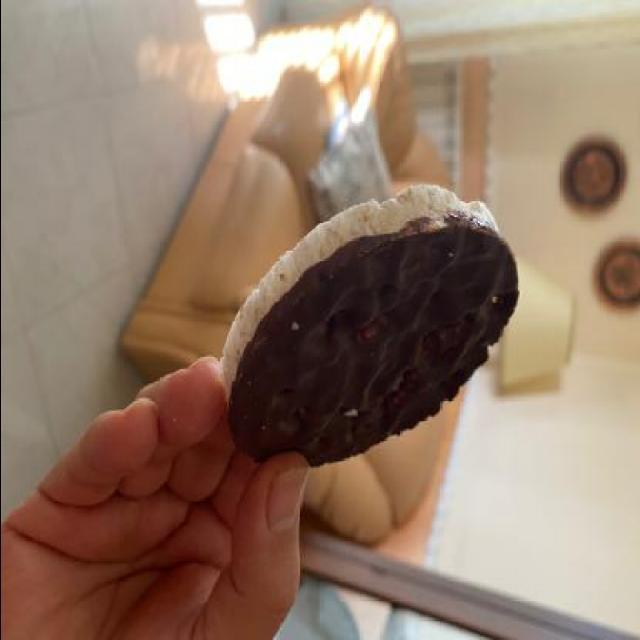Gallette di riso packaged: (221, 179, 519, 481)
